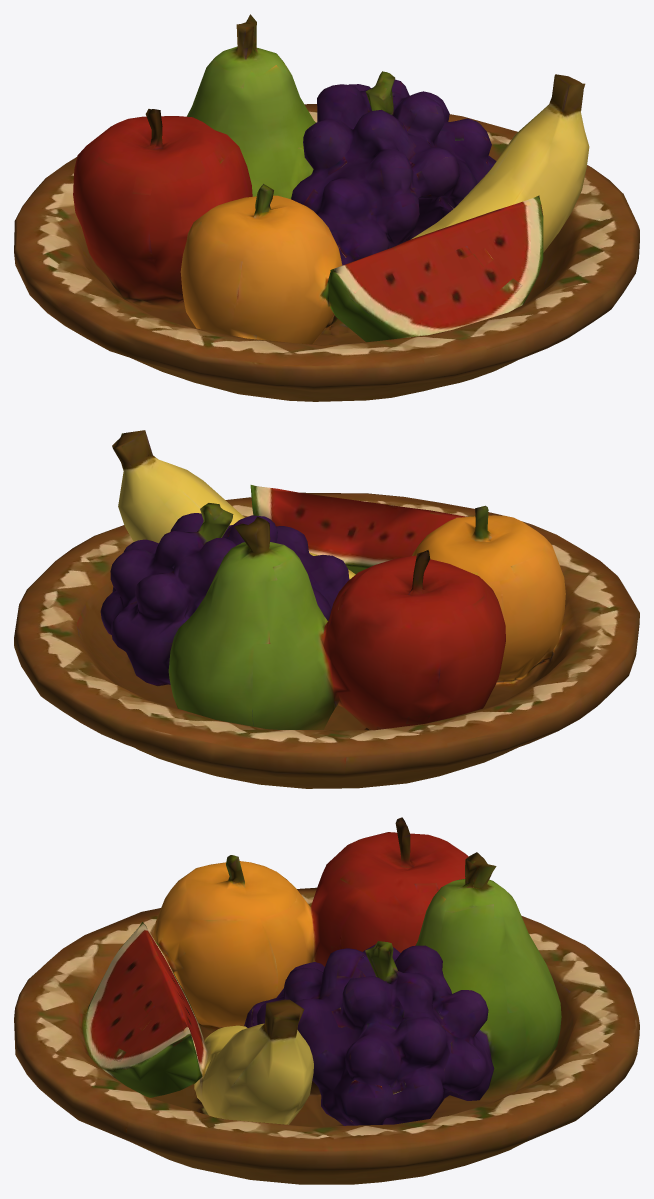
File: frutas.glb
3 views of the same model, one above another, from view 1: azimuth 30°, elevation 25°; view 2: azimuth 150°, elevation 25°; view 3: azimuth 270°, elevation 25° (orthographic).
Parts seen in each view (by area): view 1: Mesh_0; view 2: Mesh_0; view 3: Mesh_0.
Part boxes in pixels (box(x1,y1,x2,y2)): Mesh_0: box(14, 14, 639, 401); Mesh_0: box(14, 430, 639, 788); Mesh_0: box(14, 817, 639, 1184).
Size of the model in its own units: 0.2818 by 0.12 by 0.2817.
1 material, 1 textured.
